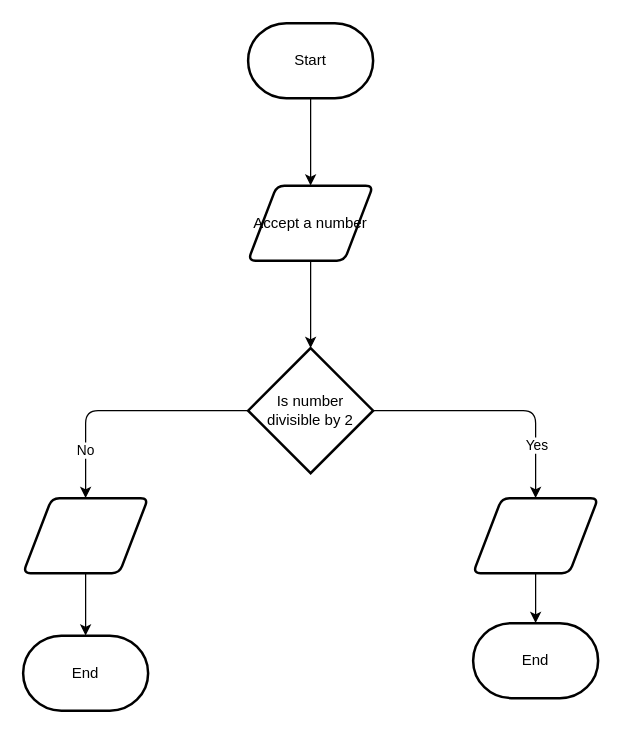
This 620x733 diagram has some shape labels left out. Here are the shapes that lost their labels. From the top down, the centre of each, then its label:
At point (85, 535): "Print odd".
At point (535, 535): "Print even".
